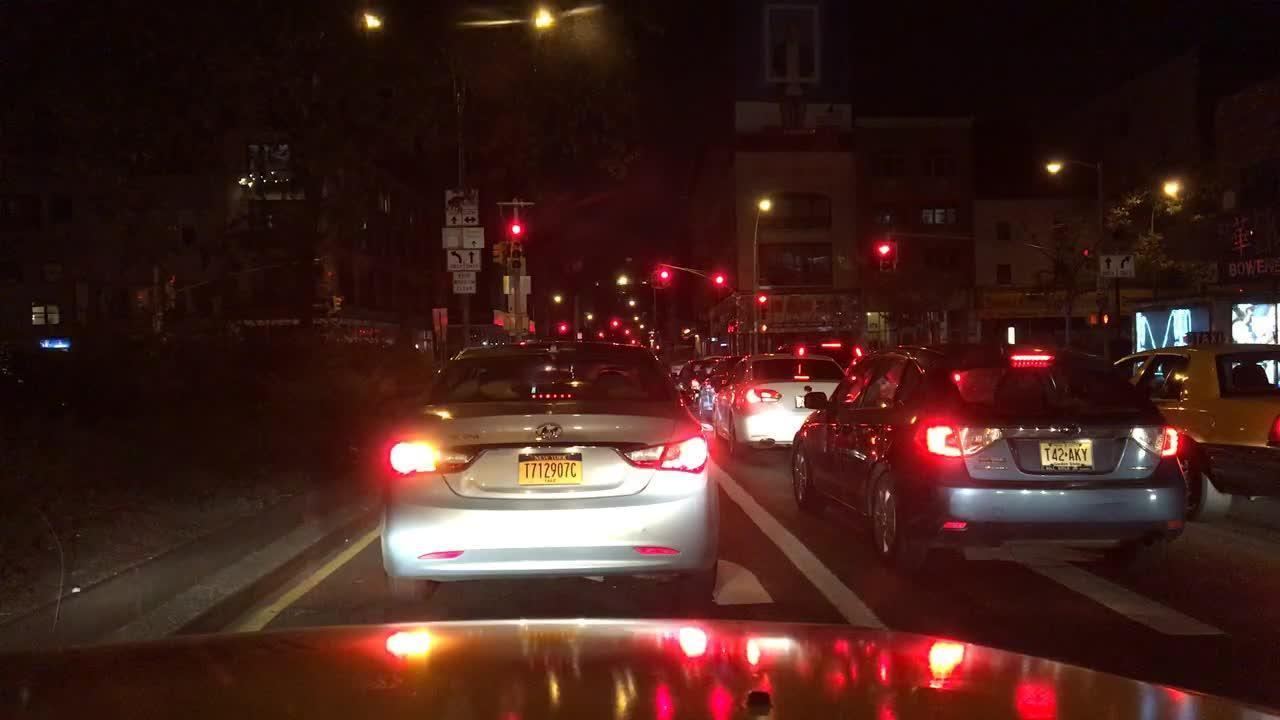Hyundai: (528, 416, 575, 446)
